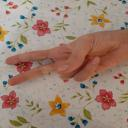PeaceSign: (4, 30, 119, 87)
